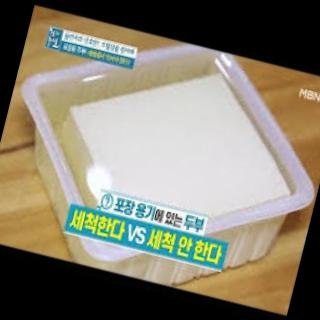Tahu: (30, 35, 302, 269)
